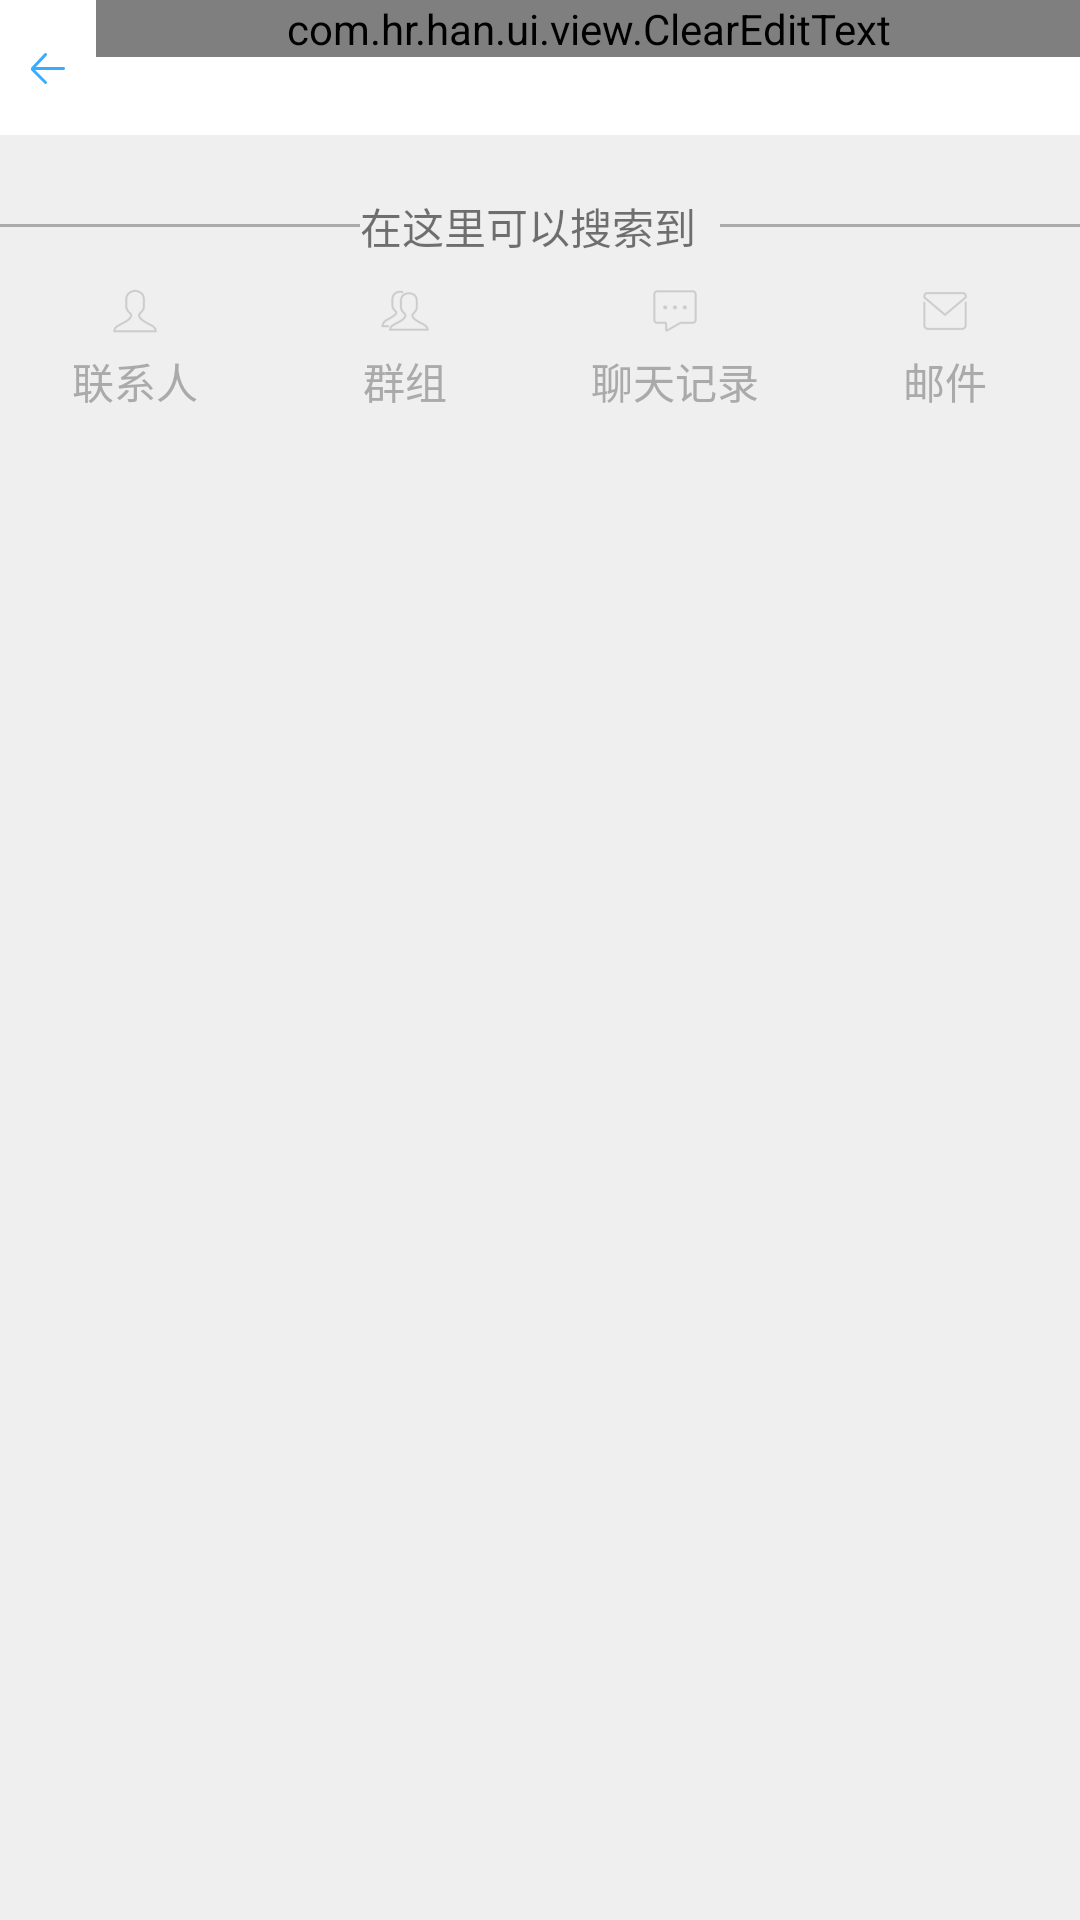

Icons on this 1080px×1920px Android screen, each with the point to tap as (x,y):
actbar back: (48,68)
